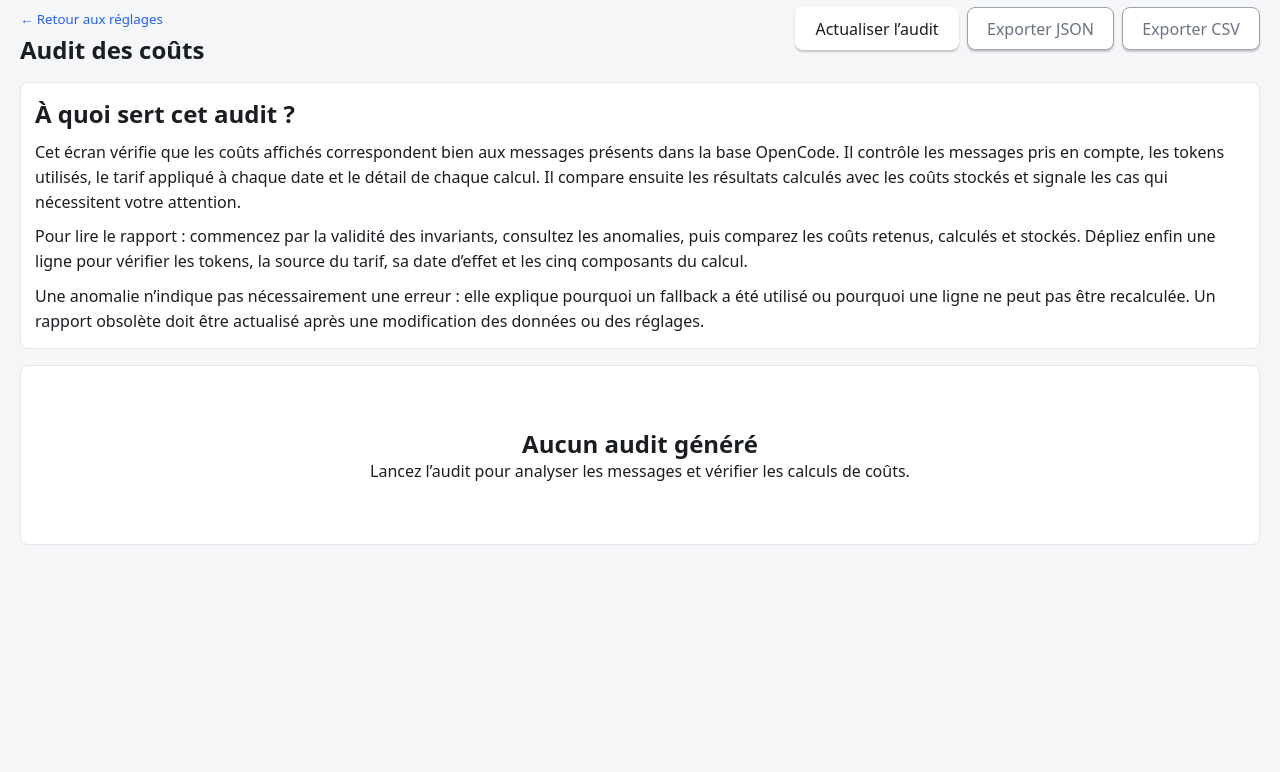
Test case: AuditView › explains the audit purpose and exposes accessible contextual help
Click the button "Actualiser l’audit" at (877, 29), box [795, 7, 959, 50]
(page scrolled)
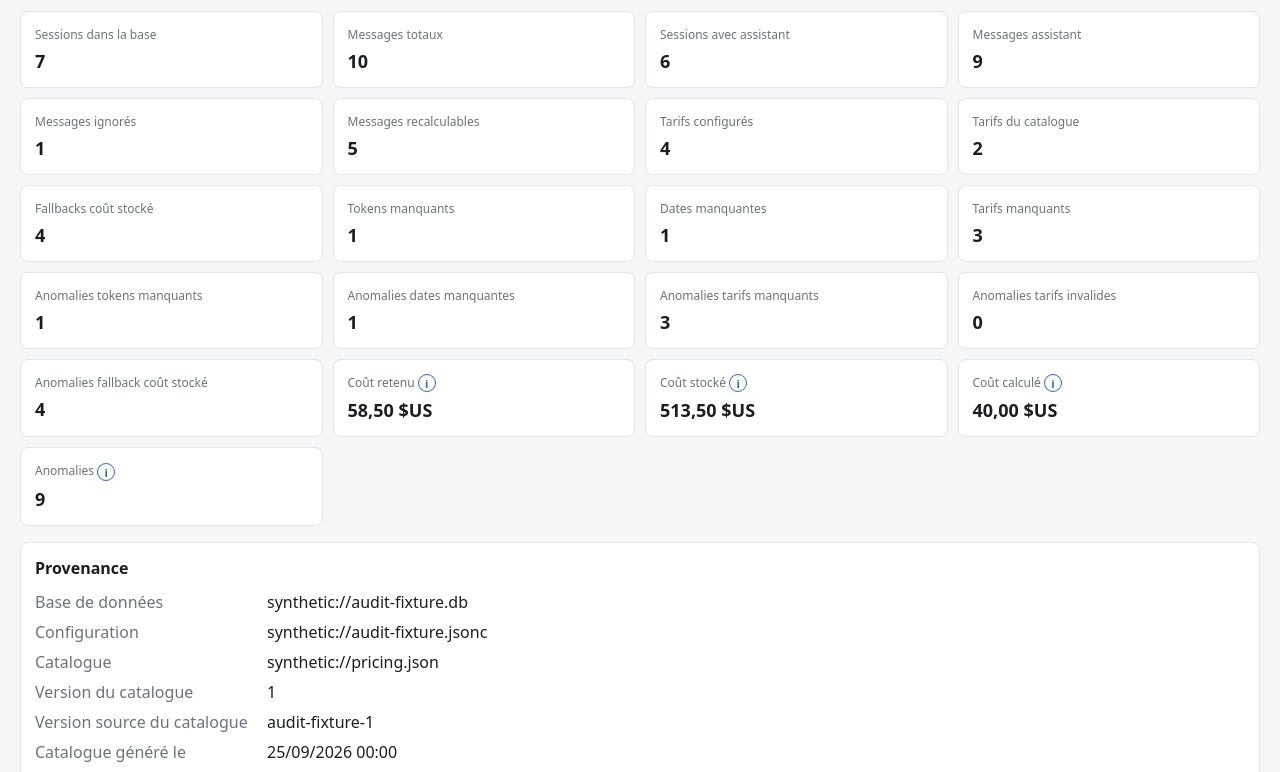
Now the button named "À propos du coût retenu" is shown
Click the button named "À propos du coût retenu" at (427, 383), box [418, 374, 436, 392]
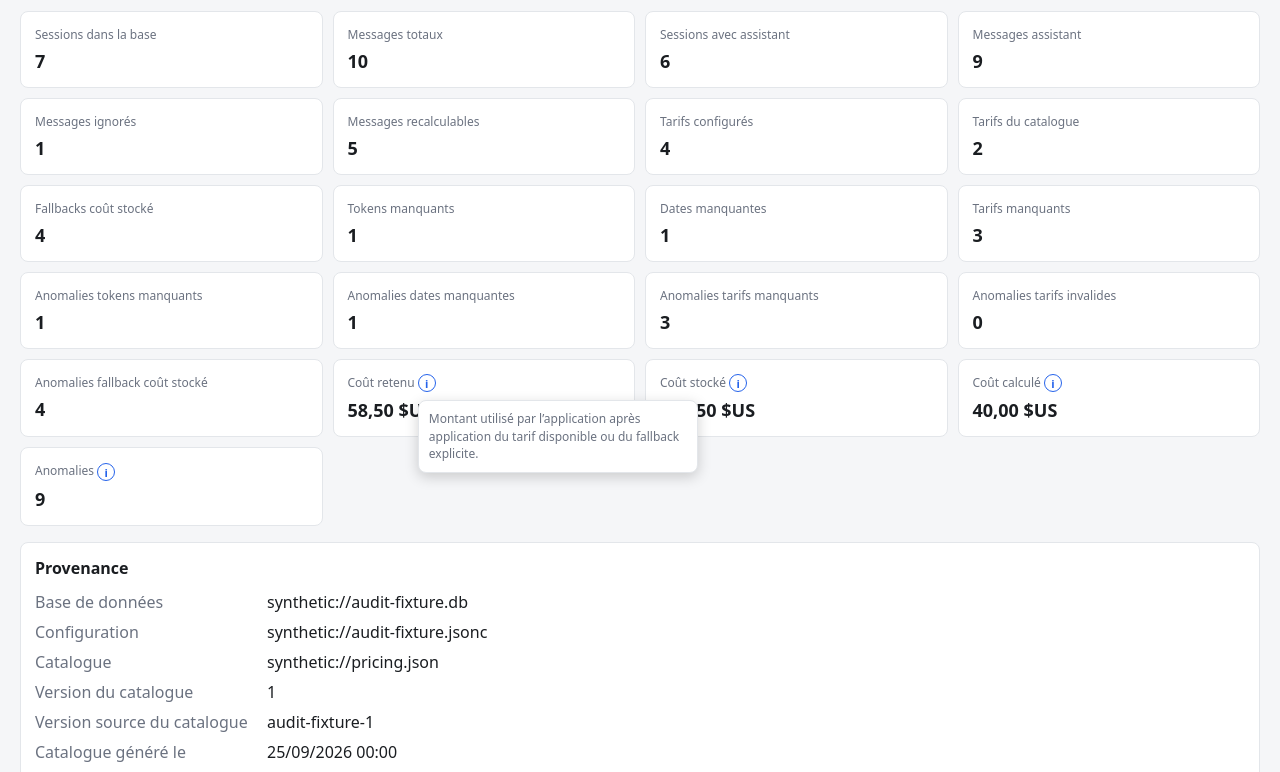
Now the tooltip shows "Montant utilisé par l’application", box [429, 410, 679, 462]
